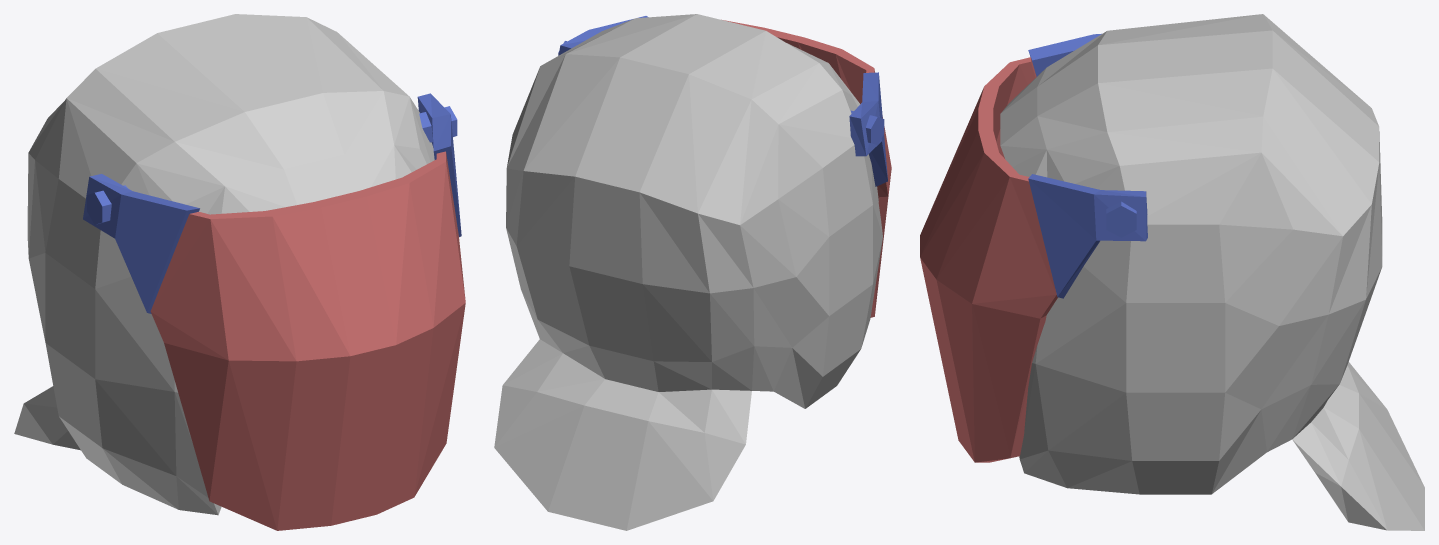
File: SM_shockproof_helmet.fbx
3 renders of one model, left to right at view 1: azimuth 30°, elevation 25°; view 2: azimuth 150°, elevation 25°; view 3: azimuth 270°, elevation 25°, orthographic. The views are drawn at different scales.
Parts seen in each view (by area): view 1: Cube_1, Sphere; view 2: Sphere, Cube_1; view 3: Sphere, Cube_1.
Part boxes in pixels (box(x1,y1,x2,y2)): Cube_1: box(83, 93, 465, 530); Sphere: box(14, 14, 434, 515); Sphere: box(494, 14, 882, 530); Cube_1: box(558, 16, 891, 317); Sphere: box(1000, 14, 1424, 530); Cube_1: box(920, 33, 1147, 462).
Size of the model in its own units: 24.53 by 30.52 by 30.31.
